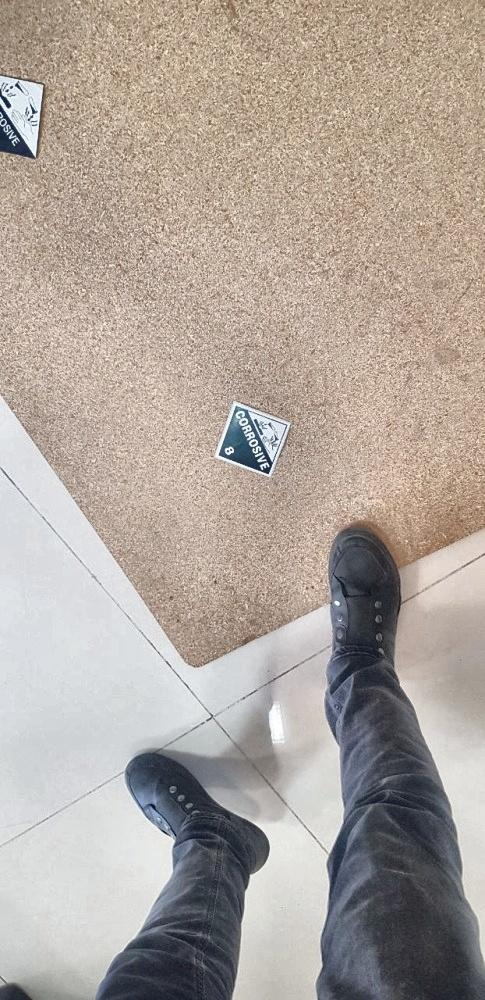corrosive: (216, 403, 290, 475), (1, 76, 48, 167)
